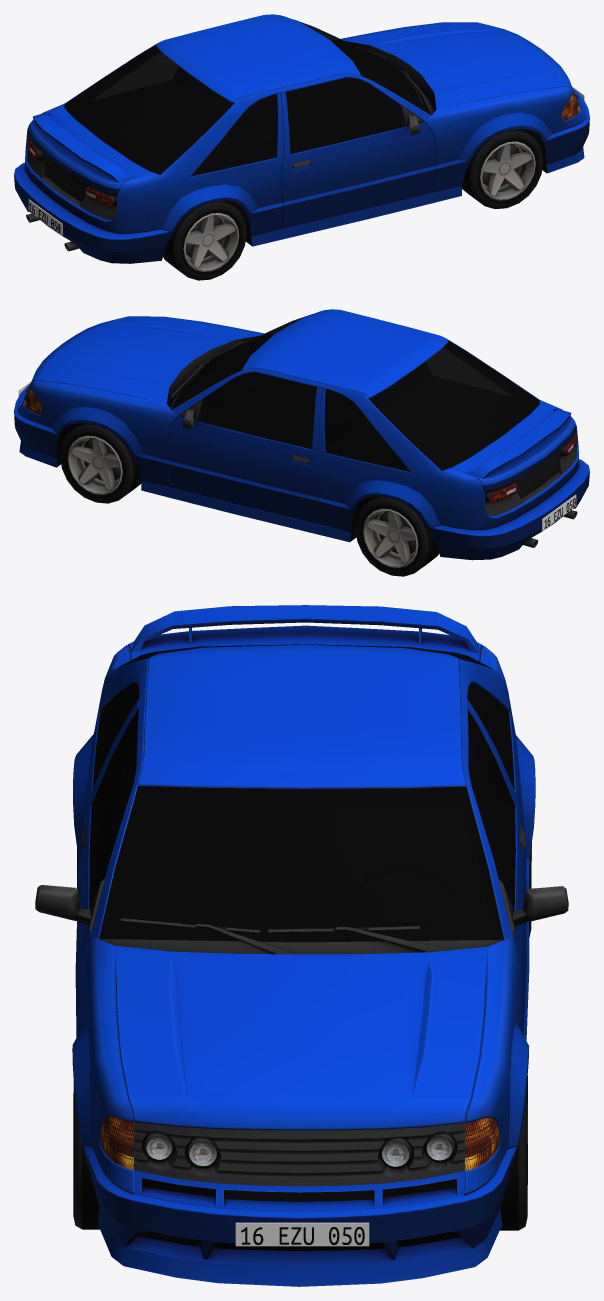
The model's file is CarPlated9043.dae.
3 views of the same model, one above another, from view 1: azimuth 30°, elevation 25°; view 2: azimuth 150°, elevation 25°; view 3: azimuth 270°, elevation 25° (orthographic). The views are drawn at different scales.
Parts seen in each view (by area): view 1: CarPlated9043; view 2: CarPlated9043; view 3: CarPlated9043.
Boxes of the visible parts, left/top/right/bottom form: CarPlated9043: left=14, top=14, right=589, bottom=280; CarPlated9043: left=14, top=309, right=589, bottom=576; CarPlated9043: left=35, top=605, right=568, bottom=1286.
Size of the model in its own units: 4.28 by 1.88 by 1.28.
